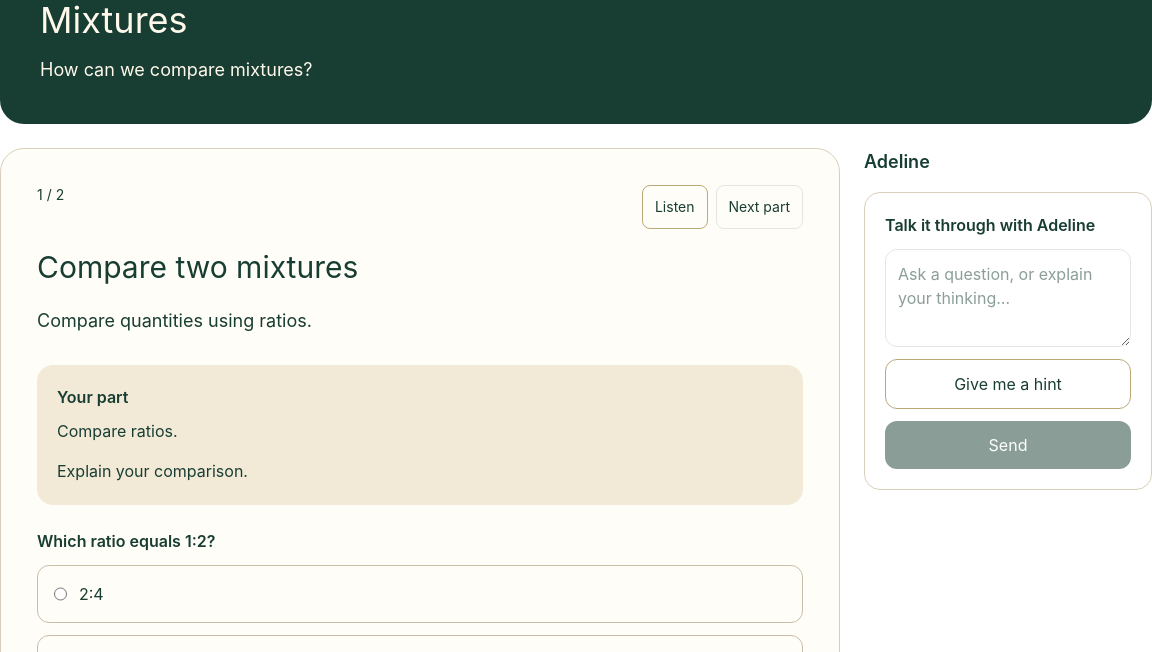
Test: Fresh classroom › keeps a quiz answer on the page until it is saved and shows server feedback
Expected: the heading "Adeline" is shown, [864,151,930,172]
Expected: the text "Both quantities doubled." is not shown
Click the radio button labelled "2:4" at {"x": 60, "y": 594}, box [54,582,67,606]
(page scrolled)
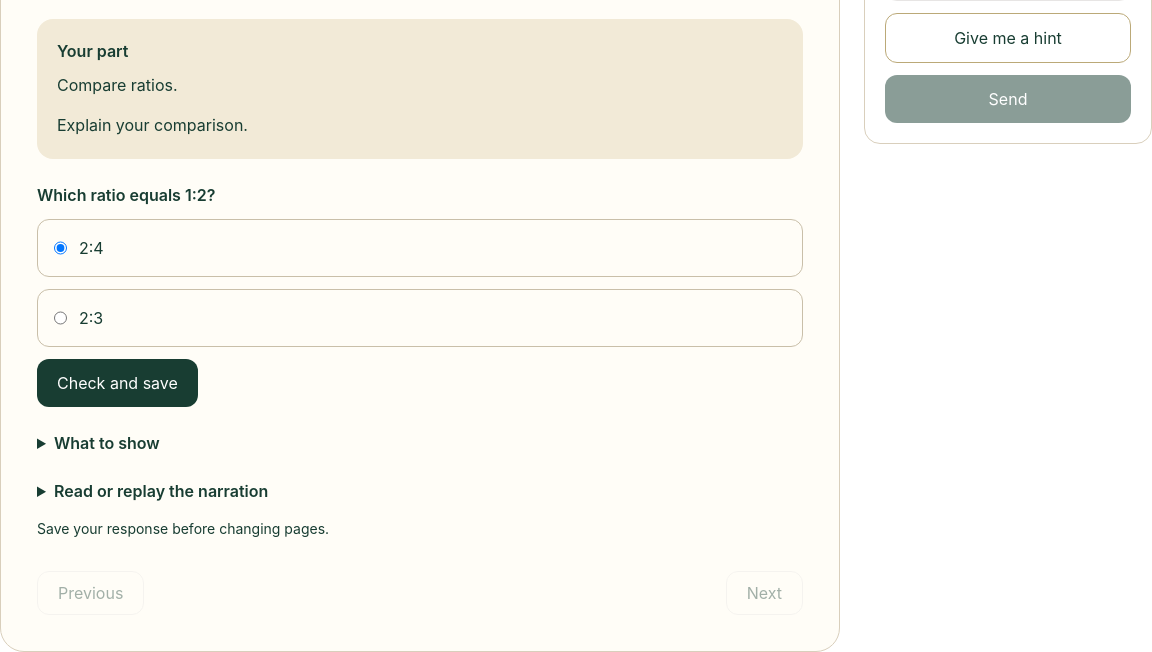
Expected: the button "Next" is disabled, [726,571,803,615]
Click the button "Check and save" at {"x": 117, "y": 383}, box [37,359,198,407]
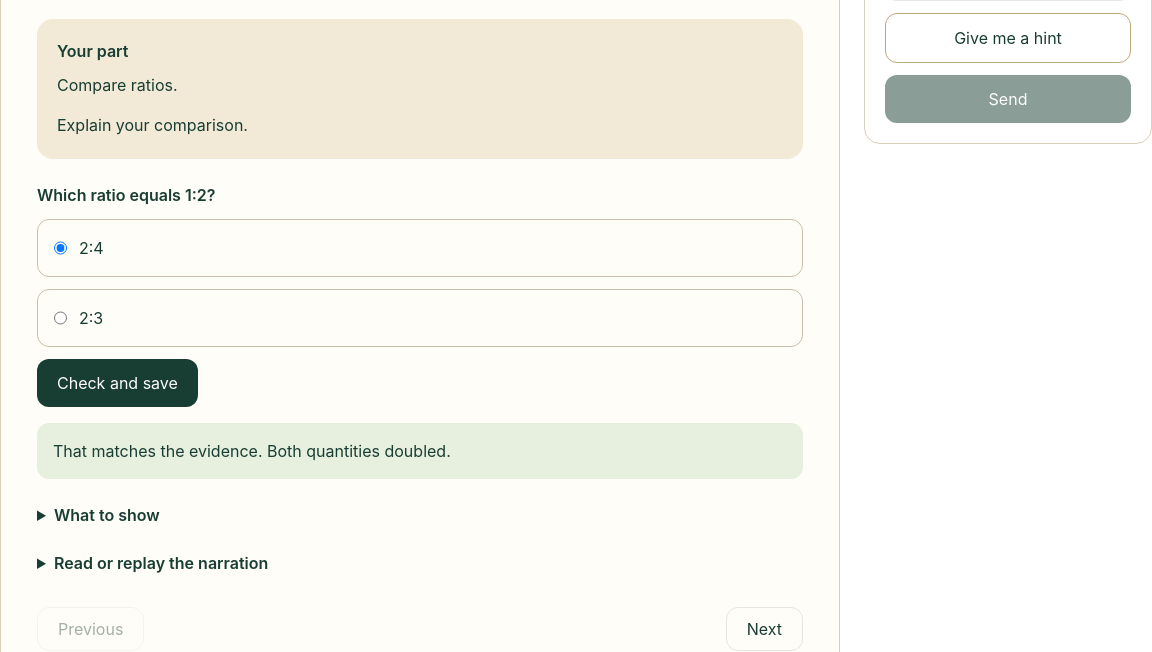
Expected: the text "That matches the evidence. Both quantities doubled." is shown, [37,423,803,479]
Expected: the button "Next" is enabled, [726,607,803,651]
